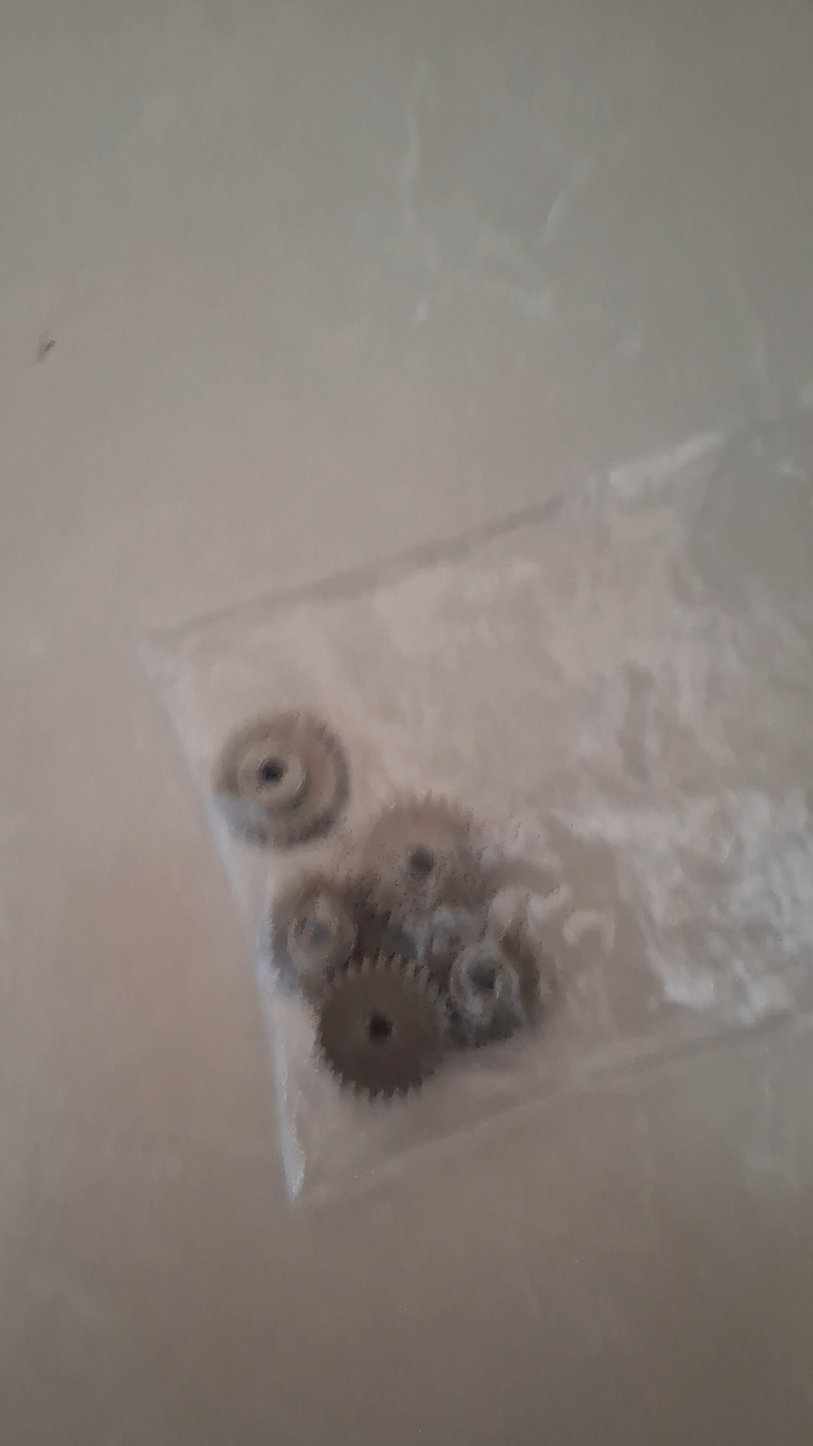spur gear: (213, 712, 348, 847), (317, 957, 446, 1097), (361, 797, 479, 932), (270, 874, 356, 998), (448, 931, 540, 1046)
